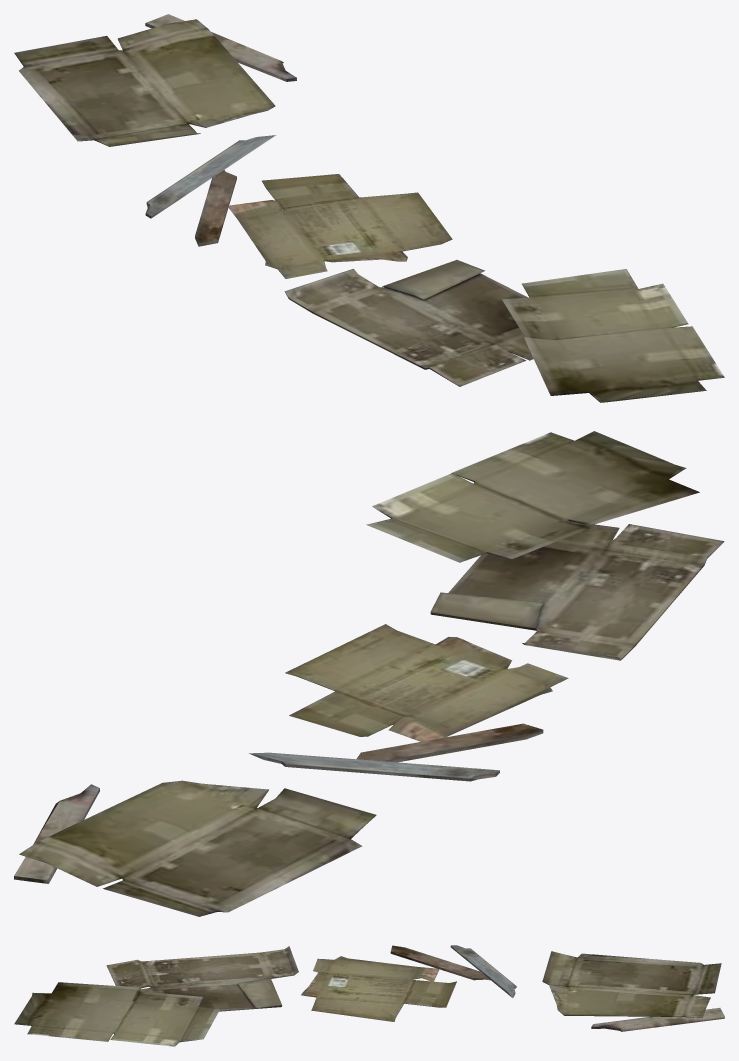
Rendered from garbage256_composite002a.glb.
The picture shows the model from 3 angles, top to bottom: view 1: azimuth 30°, elevation 25°; view 2: azimuth 150°, elevation 25°; view 3: azimuth 270°, elevation 25°; orthographic projection. The views are drawn at different scales.
Visible parts, largest first — view 1: 0_garbage002a_01; view 2: 0_garbage002a_01; view 3: 0_garbage002a_01.
Part boxes in pixels (box(x1,y1,x2,y2)): 0_garbage002a_01: box(14, 14, 724, 402); 0_garbage002a_01: box(14, 431, 724, 916); 0_garbage002a_01: box(14, 945, 724, 1046).
Bounding box in the file's own units: 2.26 × 0.0859 × 6.5.
1 material, 1 textured.
